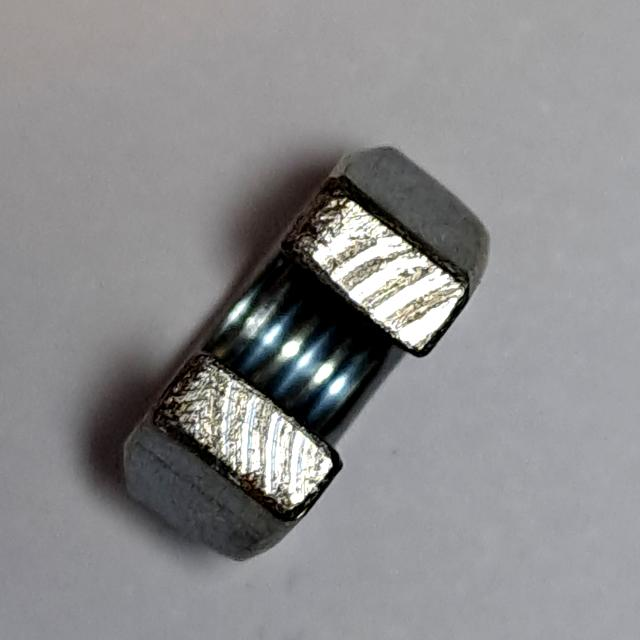Side-Fracture: (111, 134, 513, 587)
